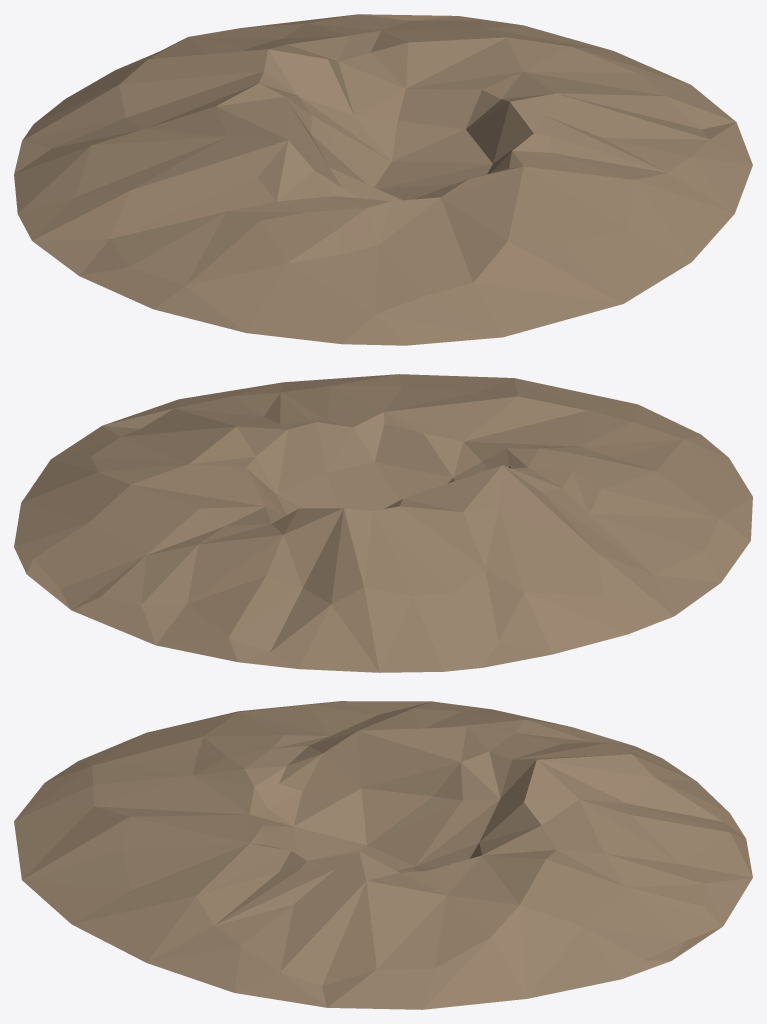
The model's file is SM_Env_Ground_Crater_02.glb.
3 views of the same model, one above another, from view 1: azimuth 30°, elevation 25°; view 2: azimuth 150°, elevation 25°; view 3: azimuth 270°, elevation 25° (orthographic). The views are drawn at different scales.
Parts seen in each view (by area): view 1: SM_Env_Ground_Crater_02; view 2: SM_Env_Ground_Crater_02; view 3: SM_Env_Ground_Crater_02.
Boxes of the visible parts, x1,y1,x2,y2 form: SM_Env_Ground_Crater_02: (14, 14, 752, 345); SM_Env_Ground_Crater_02: (14, 374, 752, 672); SM_Env_Ground_Crater_02: (14, 701, 752, 1009).
Size of the model in its own units: 2.88 by 0.3419 by 2.92.
1 material, 1 textured.
